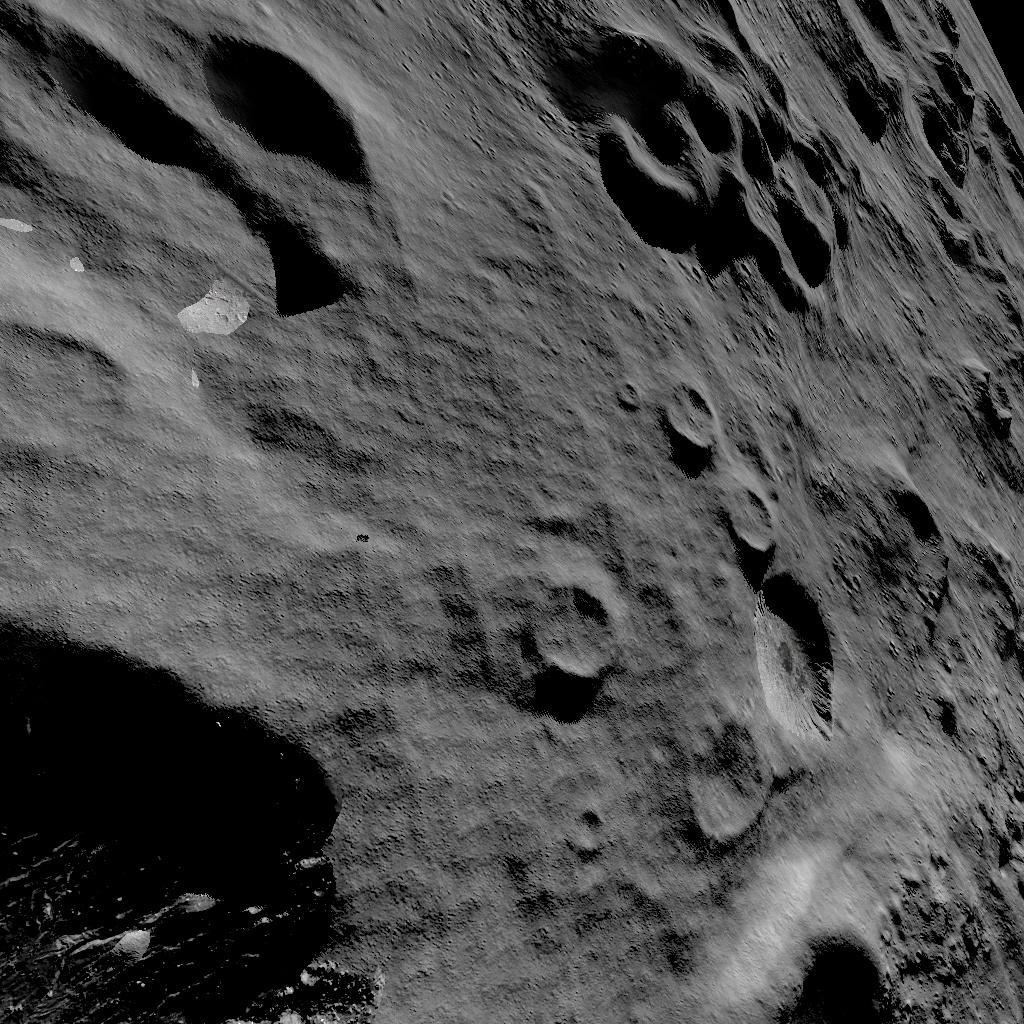Crater: (3, 613, 387, 1024), (1, 0, 389, 321), (563, 26, 879, 302), (676, 576, 858, 844), (878, 470, 975, 640), (912, 2, 998, 180), (787, 926, 927, 1024), (526, 567, 624, 697), (658, 377, 730, 457), (718, 486, 781, 560)
Plan surface: (3, 328, 477, 578), (403, 0, 549, 315)
